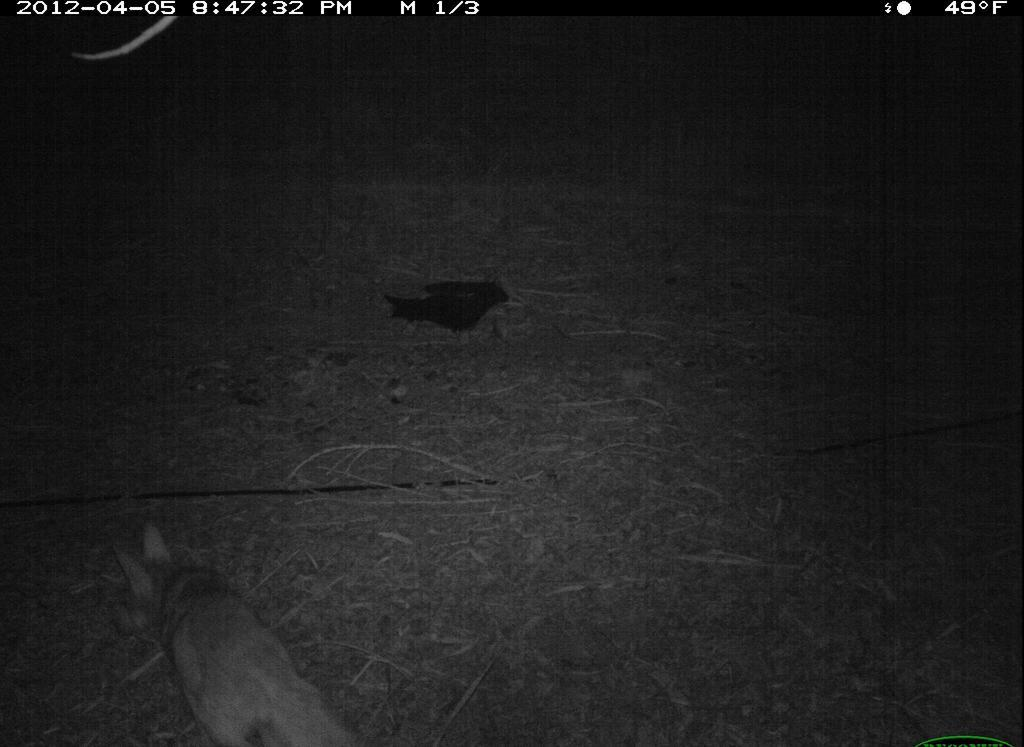coyote: (117, 524, 368, 747)
